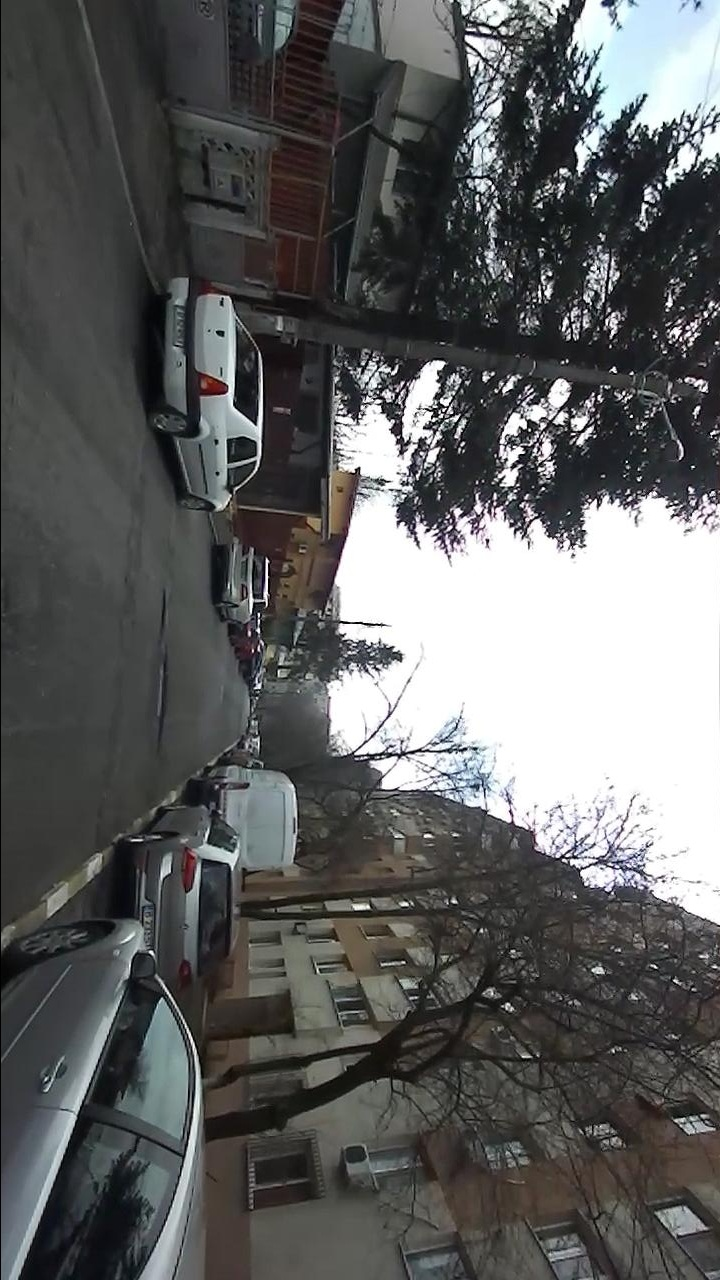pothole: (154, 661, 168, 747), (159, 590, 167, 638)
